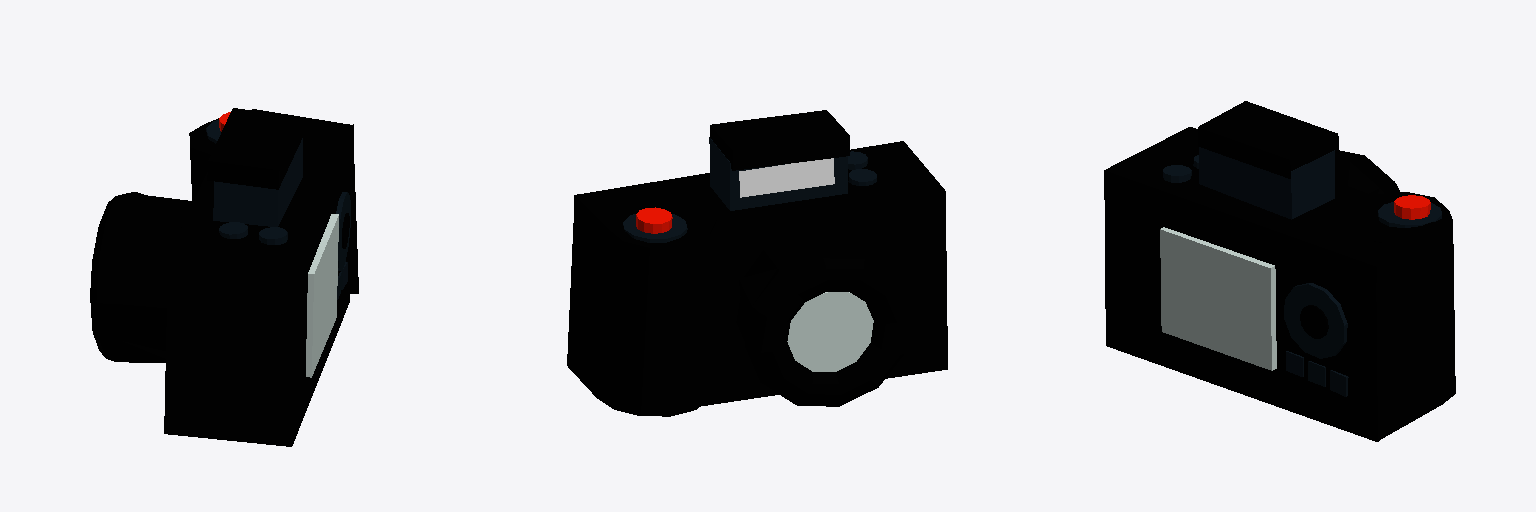
3 renders of one model, left to right at view 1: azimuth 30°, elevation 25°; view 2: azimuth 150°, elevation 25°; view 3: azimuth 270°, elevation 25°, orthographic.
Visible parts, largest first — view 1: group[number redacted], group[number redacted], group[number redacted], group[number redacted], group[number redacted], group[number redacted], group[number redacted], group[number redacted]; view 2: group[number redacted], group[number redacted], group[number redacted], group[number redacted], group[number redacted], group[number redacted], group[number redacted], group[number redacted]; view 3: group[number redacted], group[number redacted], group[number redacted], group[number redacted], group[number redacted], group[number redacted], group[number redacted], group[number redacted], group[number redacted], group[number redacted].
Boxes of the visible parts, box(x1,y1,x2,y2) form: group[number redacted]: box(164, 124, 353, 446); group[number redacted]: box(90, 192, 193, 362); group[number redacted]: box(186, 290, 272, 398); group[number redacted]: box(207, 108, 303, 189); group[number redacted]: box(306, 214, 338, 377); group[number redacted]: box(213, 138, 302, 226); group[number redacted]: box(189, 109, 358, 293); group[number redacted]: box(336, 192, 350, 271); group[number redacted]: box(574, 141, 947, 406); group[number redacted]: box(567, 196, 716, 416); group[number redacted]: box(736, 233, 911, 406); group[number redacted]: box(710, 110, 849, 170); group[number redacted]: box(709, 137, 847, 210); group[number redacted]: box(787, 292, 873, 371); group[number redacted]: box(623, 214, 687, 242); group[number redacted]: box(636, 207, 672, 233); group[number redacted]: box(1104, 127, 1390, 441); group[number redacted]: box(1361, 192, 1455, 440); group[number redacted]: box(1160, 227, 1276, 370); group[number redacted]: box(1198, 101, 1338, 178); group[number redacted]: box(1199, 147, 1334, 219); group[number redacted]: box(1284, 283, 1347, 358); group[number redacted]: box(1335, 150, 1400, 194); group[number redacted]: box(1378, 202, 1441, 227); group[number redacted]: box(1394, 195, 1430, 219); group[number redacted]: box(1300, 305, 1328, 338).
Bounding box in the file's own units: 0.4823 × 0.3796 × 0.4828.